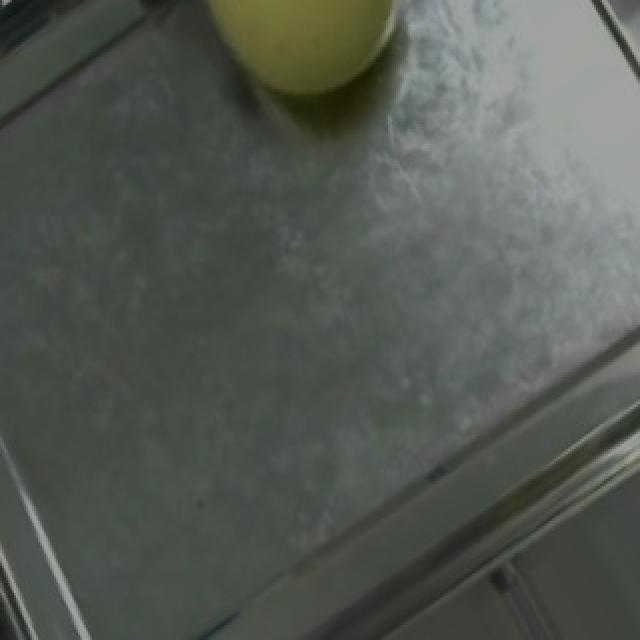Fruit: (164, 0, 432, 131)
